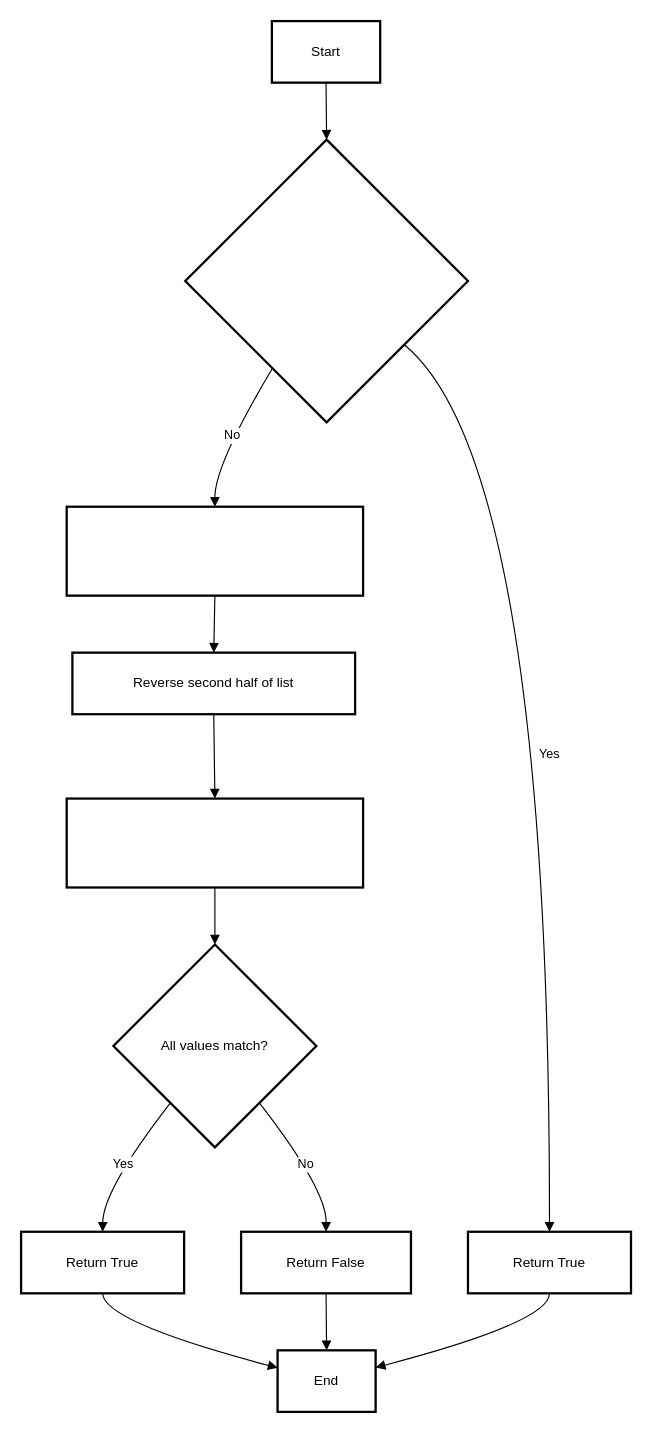
Image size: 651x1432. Some labels were removed from this diagram. The shapes that lost their labels are listed below. From the top down, each one's centre as x and y in pixels, then its label:
(326,280): Is head null or single node?
(214,550): Find middle using slow/fast pointers
(214,842): Compare first half with reversed second half
